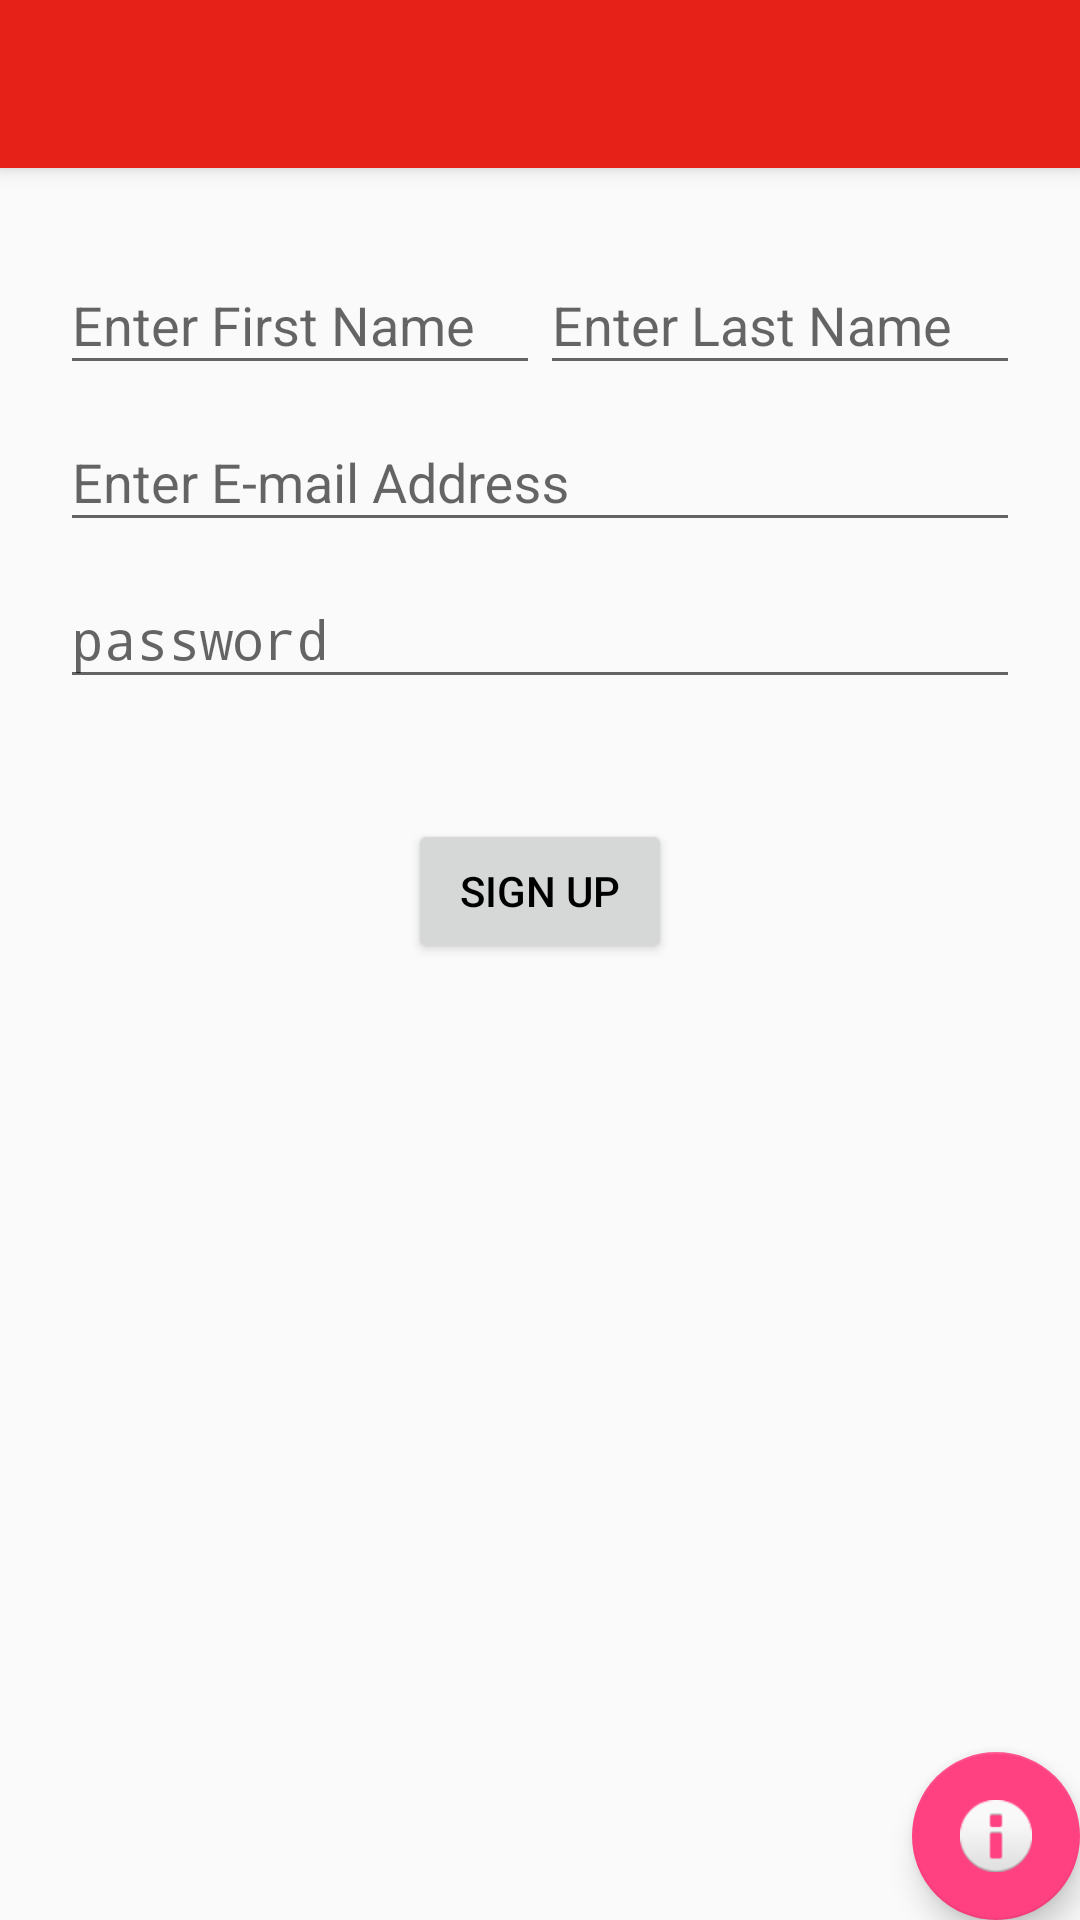

Named icons in this screenshot (1080 × 1920) and their bounding boxes, (x1, y1, x2, y2):
info: (912, 1752, 1080, 1920)
